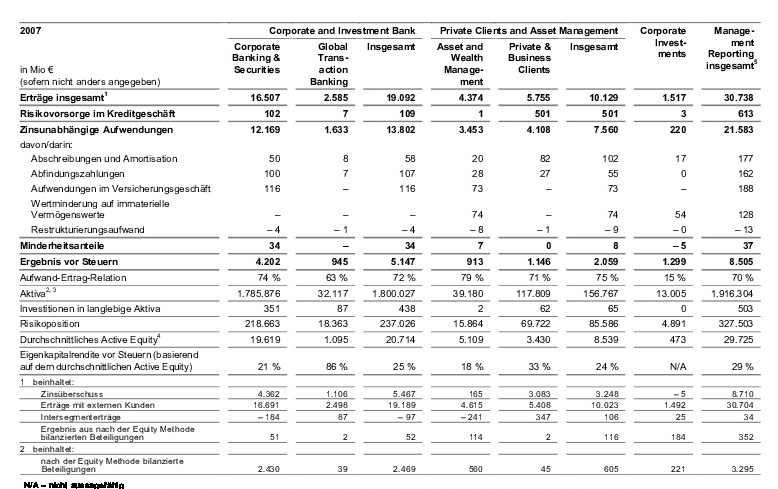table: (0, 0, 778, 489)
